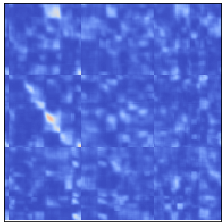action_path: (5, 75, 79, 149)
